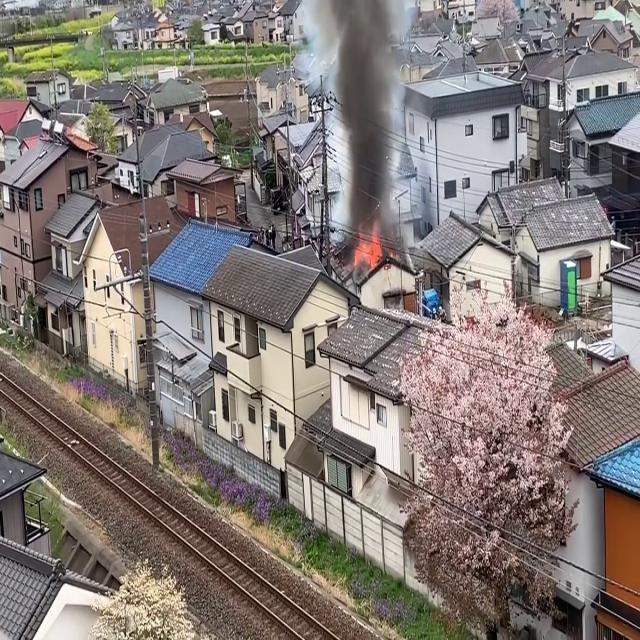Fire: (352, 223, 385, 273)
Smoke: (327, 0, 407, 246)
